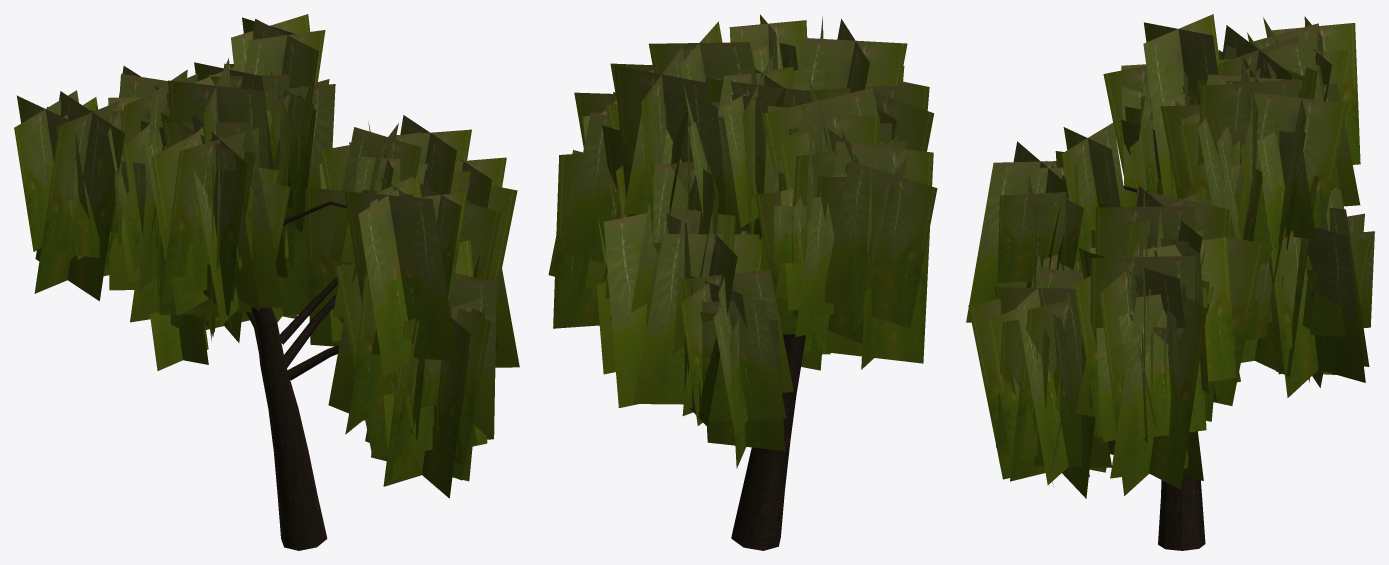
Rendered from willow.glb.
3 views of the same model, side by side, from view 1: azimuth 30°, elevation 25°; view 2: azimuth 150°, elevation 25°; view 3: azimuth 270°, elevation 25° (orthographic). The views are drawn at different scales.
Visible parts, largest first — view 1: willow_canopy, willow_trunk; view 2: willow_canopy, willow_trunk; view 3: willow_canopy, willow_trunk.
Boxes of the visible parts, x1,y1,x2,y2 form: willow_canopy: [14, 14, 519, 498]; willow_trunk: [246, 201, 346, 550]; willow_canopy: [548, 14, 937, 468]; willow_trunk: [731, 334, 805, 550]; willow_canopy: [966, 14, 1374, 498]; willow_trunk: [1123, 185, 1205, 550].
Bounding box in the file's own units: 6.03 × 6.73 × 5.15.
2 materials, 2 textured.
